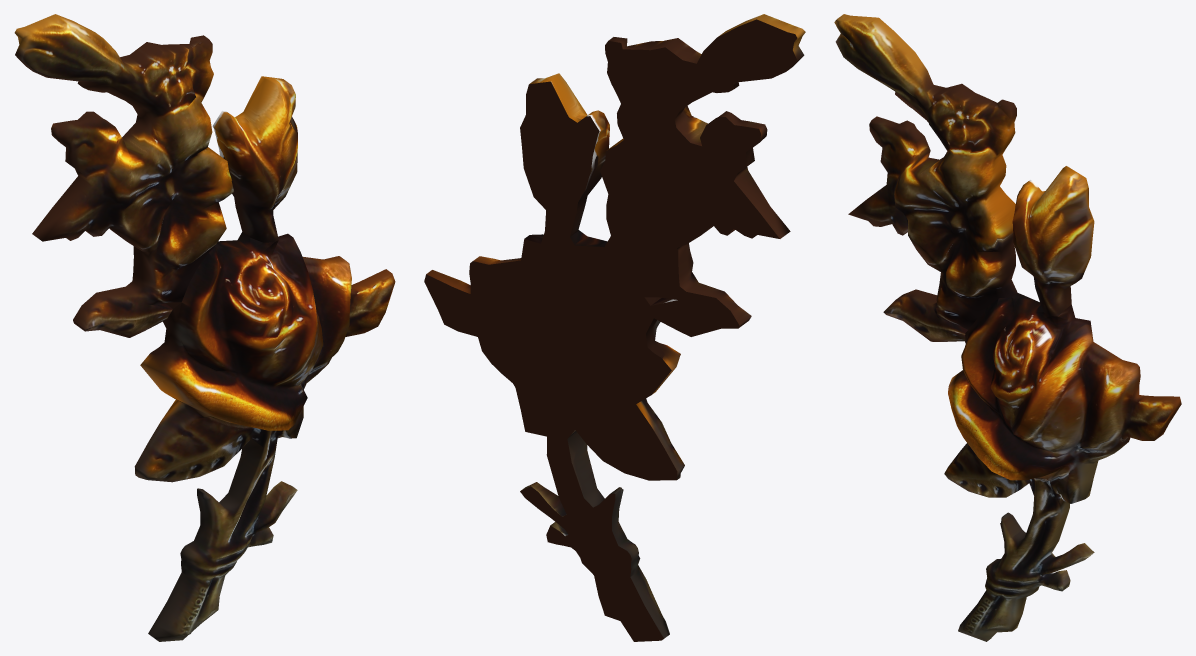
The model's file is Art2581.fbx.
3 views of the same model, side by side, from view 1: azimuth 30°, elevation 25°; view 2: azimuth 150°, elevation 25°; view 3: azimuth 330°, elevation 25° (orthographic). The views are drawn at different scales.
Visible parts, largest first — view 1: Mesh_2; view 2: Mesh_2; view 3: Mesh_2.
Part boxes in pixels (left/top/right/bottom): Mesh_2: left=14, top=14, right=395, bottom=641; Mesh_2: left=424, top=14, right=805, bottom=641; Mesh_2: left=834, top=14, right=1181, bottom=641.
Bounding box in the file's own units: 12.4 × 20.7 × 2.68.
Materials: 1 (1 with a texture image).
